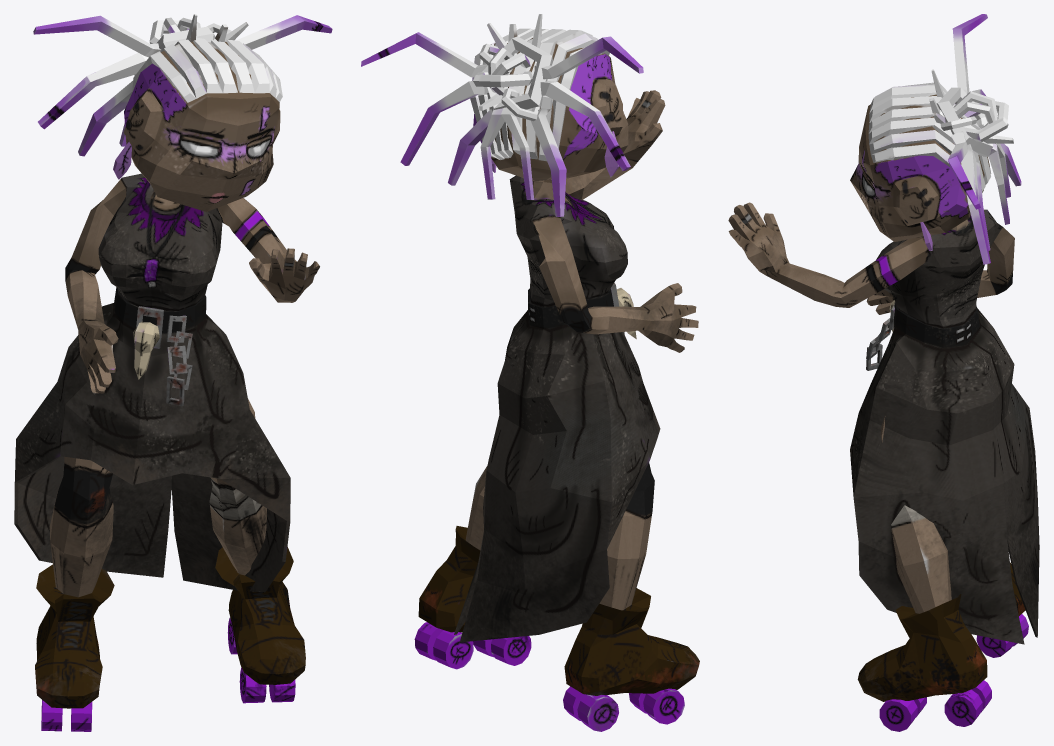
Rendered from bruja_000018.obj.
3 views of the same model, side by side, from view 1: azimuth 30°, elevation 25°; view 2: azimuth 150°, elevation 25°; view 3: azimuth 270°, elevation 25° (orthographic). The views are drawn at different scales.
Visible parts, largest first — view 1: Bruja_Plane.001; view 2: Bruja_Plane.001; view 3: Bruja_Plane.001.
Boxes of the visible parts, x1=… form: Bruja_Plane.001: x1=14, y1=14, x2=332, y2=731; Bruja_Plane.001: x1=361, y1=14, x2=699, y2=731; Bruja_Plane.001: x1=728, y1=14, x2=1039, y2=731.
Bounding box in the file's own units: 7.97 × 16.53 × 7.35.
